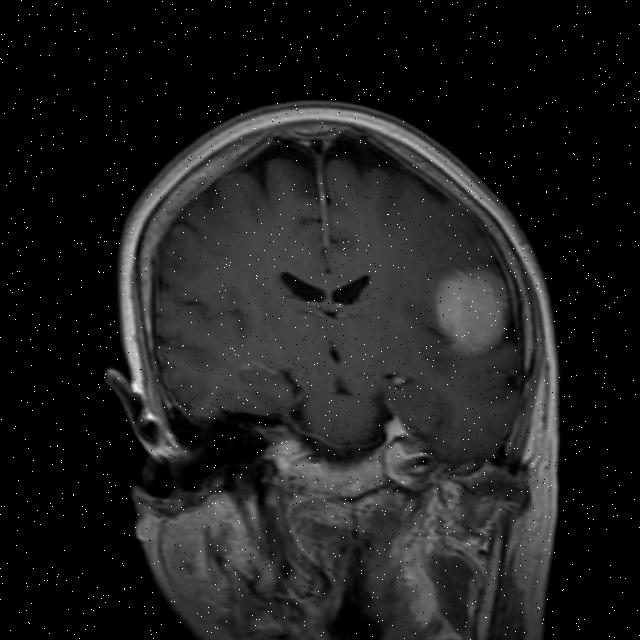Meningioma: (432, 260, 513, 358)
